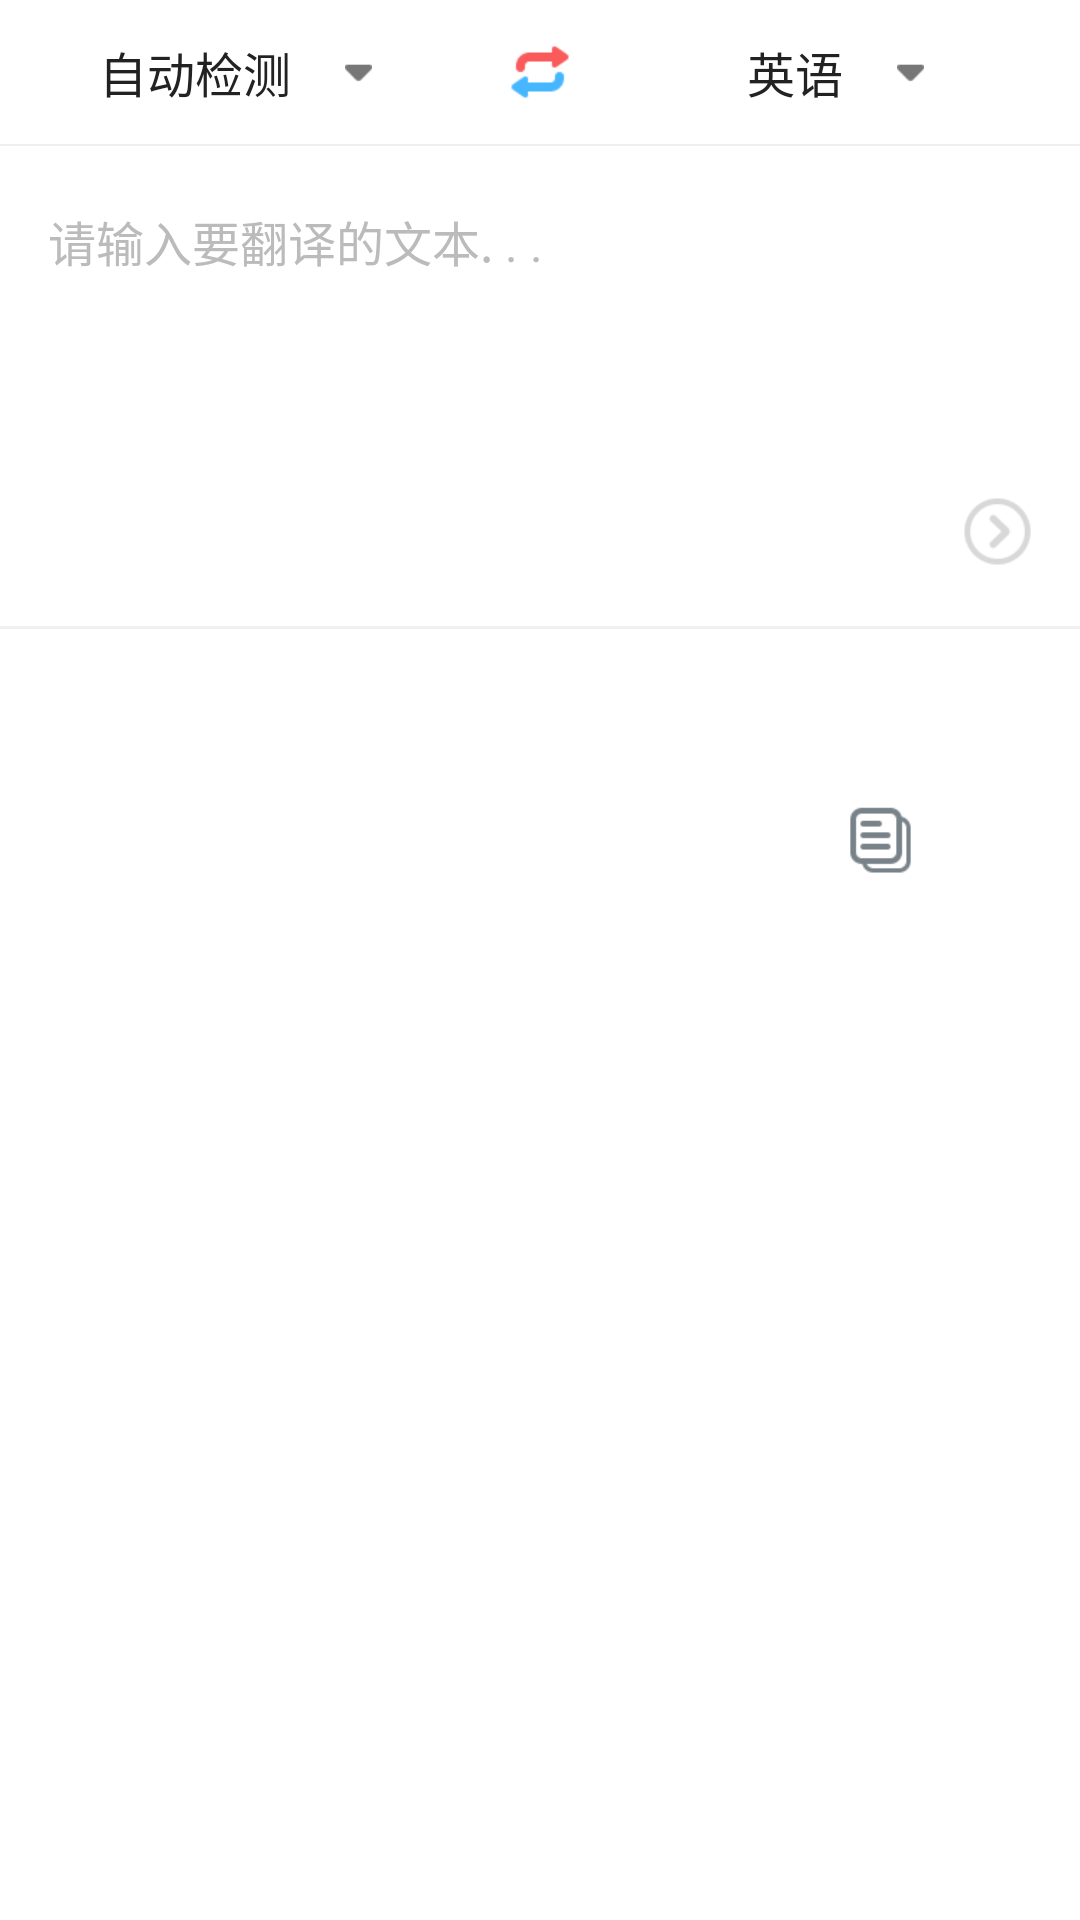

Icons on this 1080*1920 Android screen, each with its box as box=[x1, y1, x2, y2]:
change: box=[511, 46, 569, 98]
change down: box=[345, 64, 372, 81], box=[897, 64, 924, 81]
excute off: box=[965, 499, 1030, 564]
